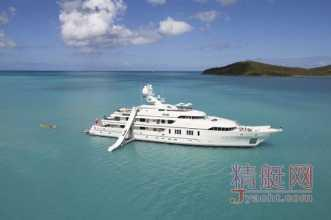yacht: (90, 86, 282, 146)
